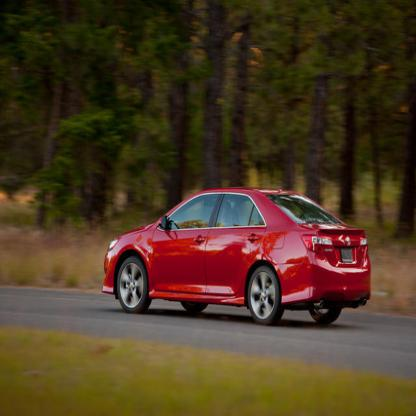Vehicle: (101, 187, 372, 327)
